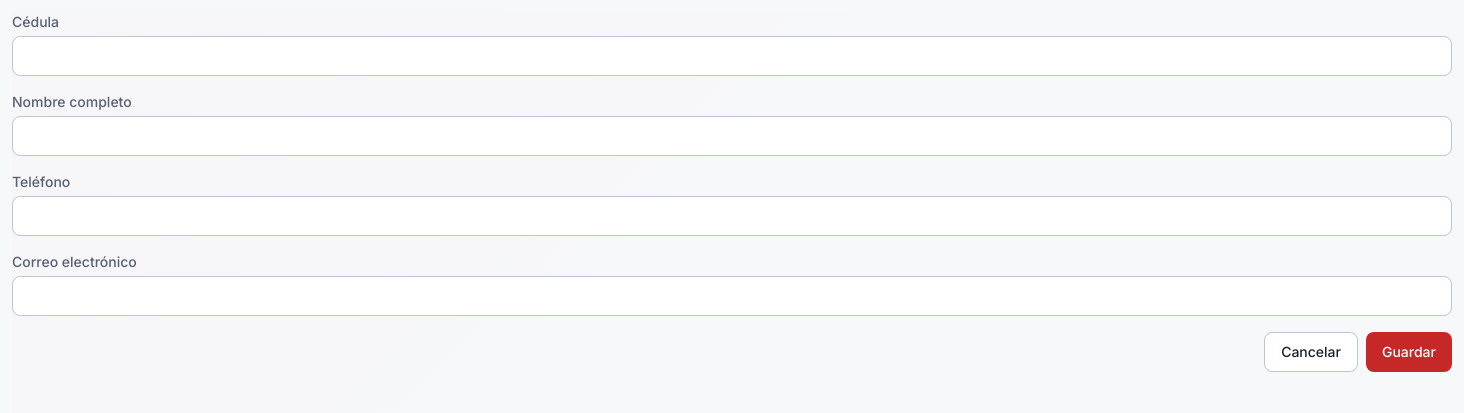
InstructorForm › muestra junto a cédula el rechazo del dígito verificador del backend
Type "1710034065" into the field labelled "Cédula" at (732, 56), box [12, 36, 1452, 76]
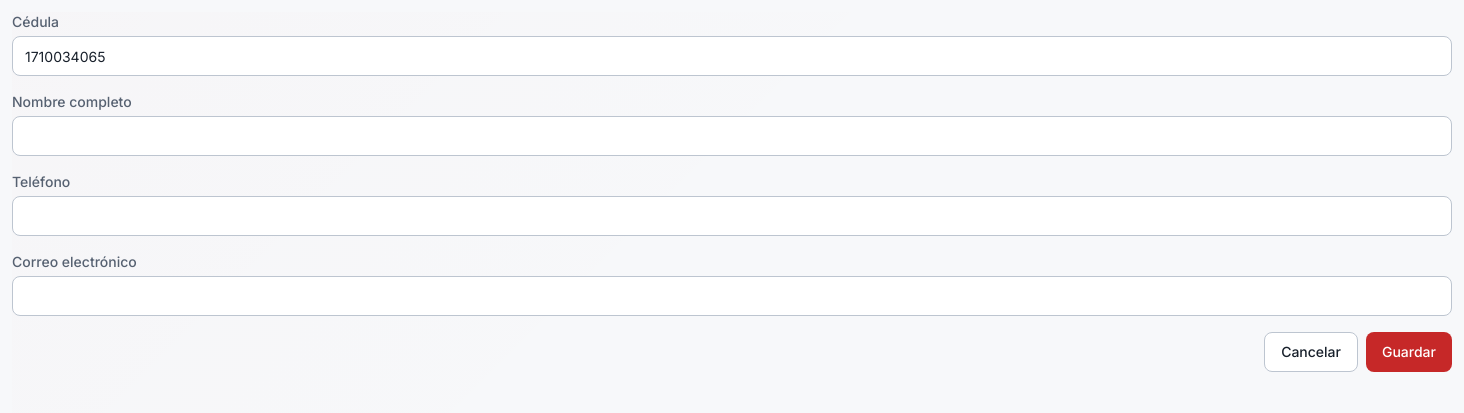
Type "Bruno Salas" into the field labelled "Nombre completo" at (732, 136), box [12, 116, 1452, 156]
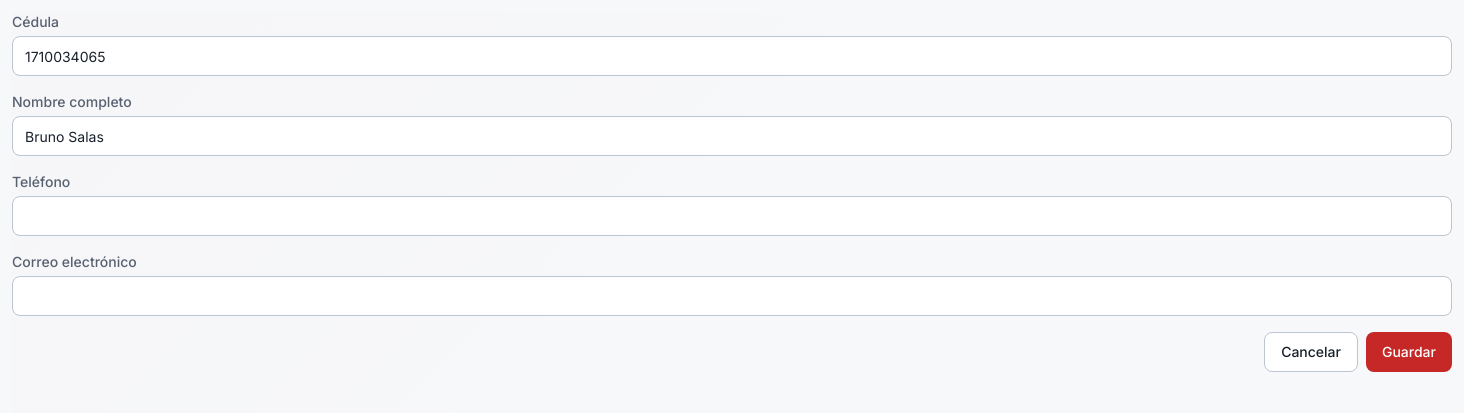
Type "0991234567" into the field labelled "Teléfono" at (732, 216), box [12, 196, 1452, 236]
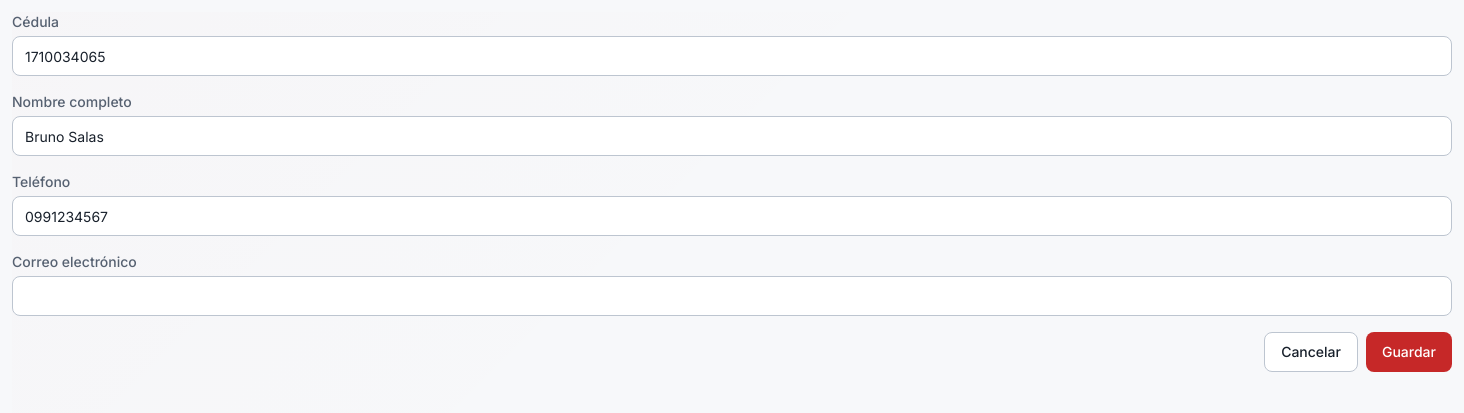
Type "bruno@example.com" into the field labelled "Correo electrónico" at (732, 296), box [12, 276, 1452, 316]
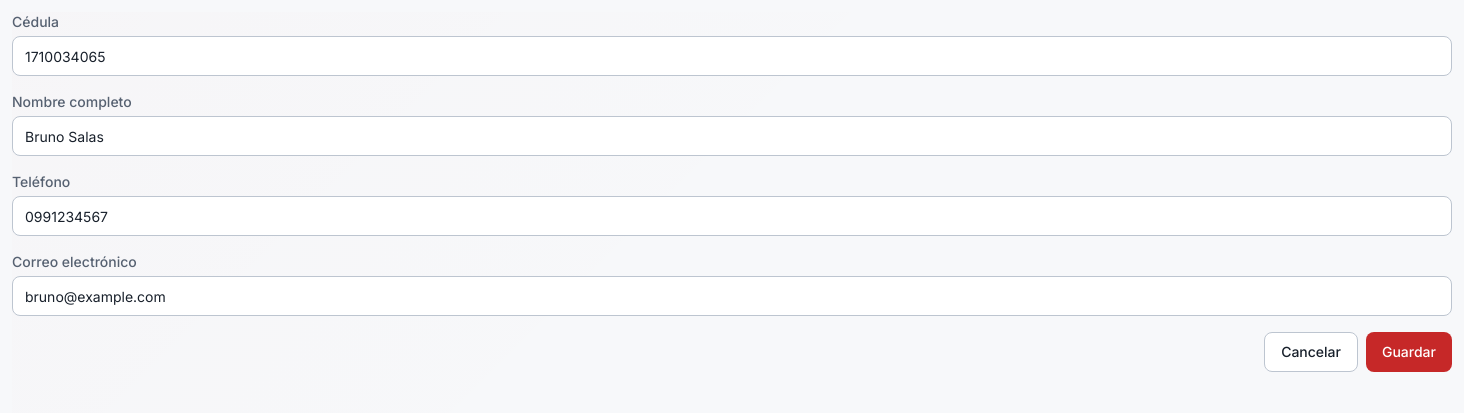
Click the button "Guardar" at (1409, 352), box [1366, 332, 1452, 372]
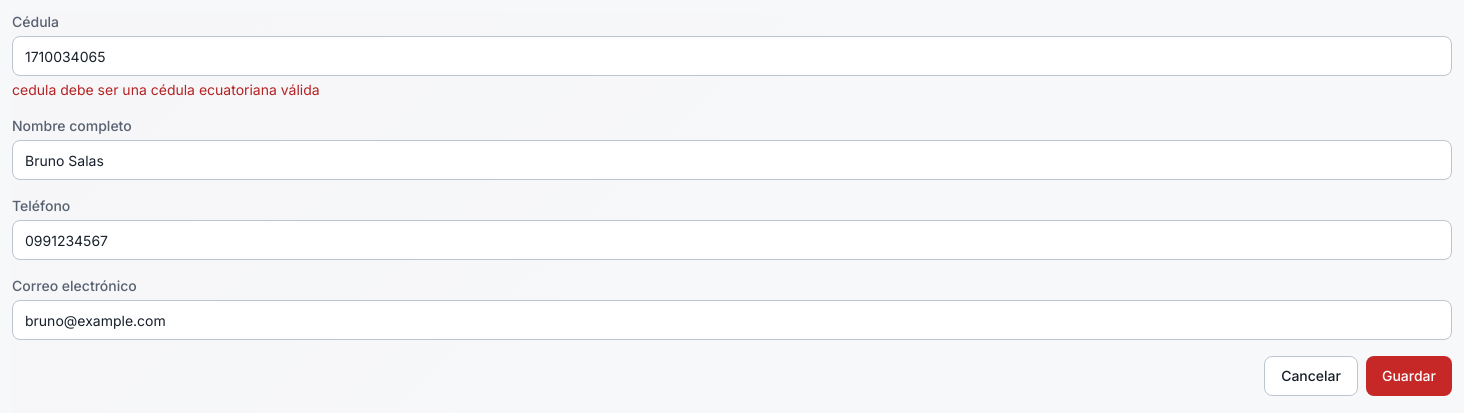
Check: the text "cedula debe ser una cédula ecuatoriana válida" is shown, box [12, 81, 320, 98]
